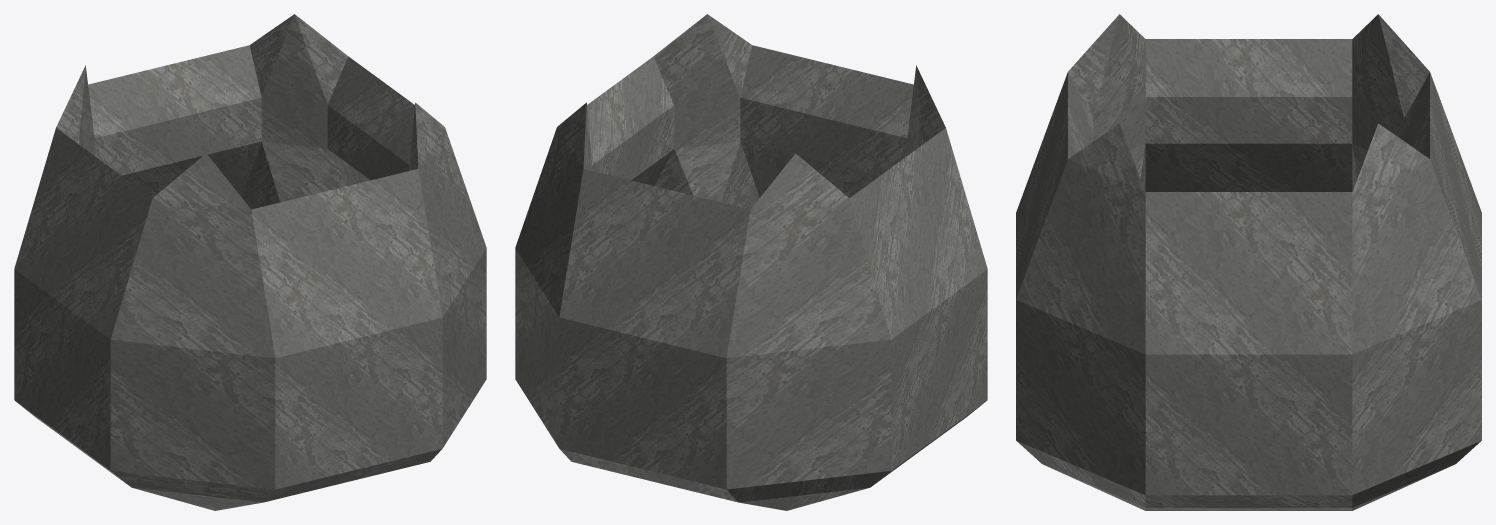
Rendered from Dragonfly_IceSlide_Arena.fbx.
3 views of the same model, side by side, from view 1: azimuth 30°, elevation 25°; view 2: azimuth 150°, elevation 25°; view 3: azimuth 270°, elevation 25° (orthographic). The views are drawn at different scales.
Parts seen in each view (by area): view 1: Slide Arena End; view 2: Slide Arena End; view 3: Slide Arena End.
Boxes of the visible parts, x1,y1,x2,y2 form: Slide Arena End: [14, 14, 486, 510]; Slide Arena End: [515, 14, 987, 510]; Slide Arena End: [1016, 14, 1481, 510].
Size of the model in its own units: 90 by 85 by 90.
